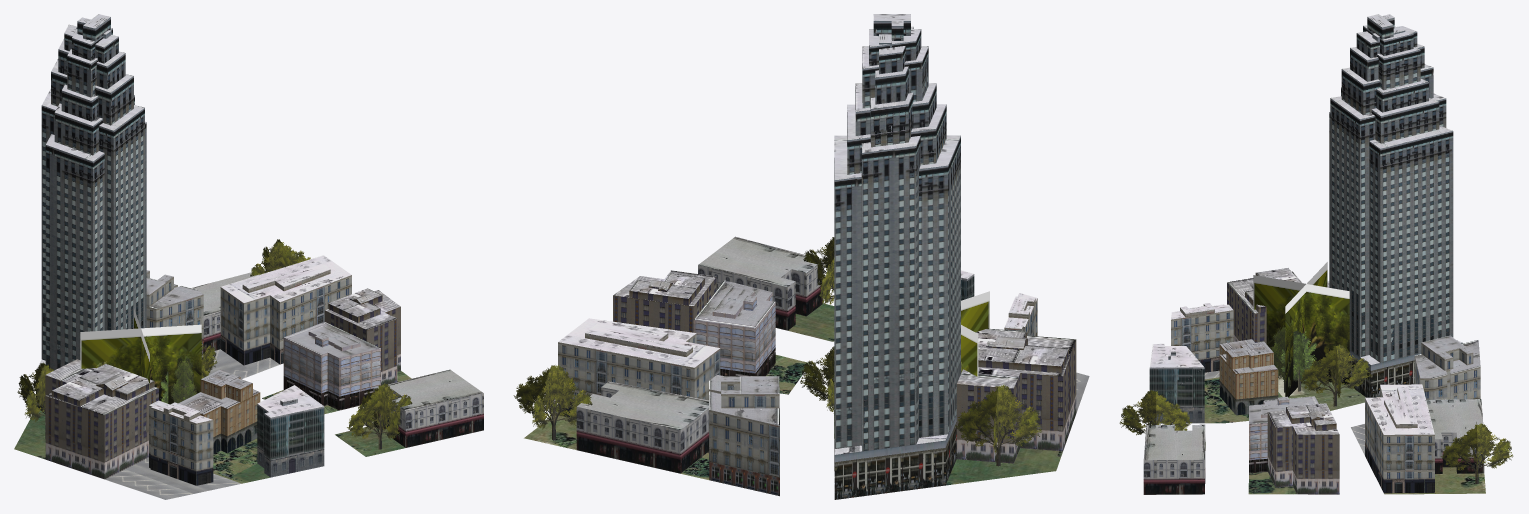
File: test_city_models_0.fbx
The picture shows the model from 3 angles, left to right: view 1: azimuth 30°, elevation 25°; view 2: azimuth 150°, elevation 25°; view 3: azimuth 270°, elevation 25°; orthographic projection. The views are drawn at different scales.
Parts seen in each view (by area): view 1: Facade_Textures.UpperFloors_156, Facade_Textures.UpperFloors_153, Plant_Loader.PlantFinal._7, Facade_Textures.UpperFloors_152, Facade_Textures.UpperFloors_55, Facade_Textures.UpperFloors_157, Facade_Textures.UpperFloors_108, Facade_Textures.UpperFloors_4, Facade_Textures.UpperFloors_37, Facade_Textures.UpperFloors_56, Plant_Loader.PlantFinal._3, Roof_Textures.FlatPlane_29 (+42 smaller); view 2: Facade_Textures.UpperFloors_151, Facade_Textures.UpperFloors_155, Facade_Textures.UpperFloors, Facade_Textures.GroundFloors_50, Facade_Textures.UpperFloors_20, Roof_Textures.FlatPlane_28, Plant_Loader.PlantFinal._4, Facade_Textures.UpperFloors_156, Roof_Textures.FlatPlane_29, Plant_Loader.PlantFinal._2, Roof_Textures.FlatPlane_30, Facade_Textures.UpperFloors_122 (+38 smaller); view 3: Facade_Textures.UpperFloors_158, Plant_Loader.PlantFinal._7, Facade_Textures.UpperFloors_153, Facade_Textures.UpperFloors_157, Facade_Textures.UpperFloors_154, Facade_Textures.UpperFloors_5, Facade_Textures.UpperFloors_33, Plant_Loader.PlantFinal._5, Plant_Loader.PlantFinal._2, Roof_Textures.FlatPlane_29, Facade_Textures.UpperFloors_103, Facade_Textures.UpperFloors_82 (+36 smaller).
Part boxes in pixels (x1=…): Facade_Textures.UpperFloors_156: x1=45, y1=145, x2=92, y2=370; Facade_Textures.UpperFloors_153: x1=113, y1=108, x2=144, y2=329; Plant_Loader.PlantFinal._7: x1=80, y1=308, x2=201, y2=404; Facade_Textures.UpperFloors_152: x1=41, y1=105, x2=113, y2=360; Facade_Textures.UpperFloors_55: x1=45, y1=396, x2=104, y2=462; Facade_Textures.UpperFloors_157: x1=93, y1=122, x2=146, y2=331; Facade_Textures.UpperFloors_108: x1=270, y1=406, x2=324, y2=459; Facade_Textures.UpperFloors_4: x1=280, y1=275, x2=351, y2=349; Facade_Textures.UpperFloors_37: x1=150, y1=407, x2=196, y2=470; Facade_Textures.UpperFloors_56: x1=104, y1=388, x2=158, y2=461; Plant_Loader.PlantFinal._3: x1=347, y1=383, x2=412, y2=449; Roof_Textures.FlatPlane_29: x1=373, y1=369, x2=483, y2=410; Facade_Textures.UpperFloors_151: x1=862, y1=146, x2=916, y2=451; Facade_Textures.UpperFloors_155: x1=834, y1=165, x2=948, y2=448; Facade_Textures.UpperFloors: x1=558, y1=342, x2=694, y2=399; Facade_Textures.GroundFloors_50: x1=834, y1=448, x2=945, y2=499; Facade_Textures.UpperFloors_20: x1=709, y1=410, x2=779, y2=477; Roof_Textures.FlatPlane_28: x1=577, y1=381, x2=708, y2=429; Plant_Loader.PlantFinal._4: x1=955, y1=384, x2=1042, y2=466; Facade_Textures.UpperFloors_156: x1=948, y1=136, x2=960, y2=433; Roof_Textures.FlatPlane_29: x1=698, y1=236, x2=821, y2=287; Plant_Loader.PlantFinal._2: x1=513, y1=365, x2=592, y2=440; Roof_Textures.FlatPlane_30: x1=558, y1=318, x2=719, y2=367; Facade_Textures.UpperFloors_122: x1=576, y1=407, x2=680, y2=452; Facade_Textures.UpperFloors_158: x1=1380, y1=131, x2=1453, y2=362; Plant_Loader.PlantFinal._7: x1=1253, y1=262, x2=1349, y2=397; Facade_Textures.UpperFloors_153: x1=1330, y1=98, x2=1359, y2=356; Facade_Textures.UpperFloors_157: x1=1329, y1=112, x2=1380, y2=362; Facade_Textures.UpperFloors_154: x1=1360, y1=98, x2=1446, y2=357; Facade_Textures.UpperFloors_5: x1=1383, y1=434, x2=1434, y2=479; Facade_Textures.UpperFloors_33: x1=1171, y1=310, x2=1233, y2=359; Plant_Loader.PlantFinal._5: x1=1300, y1=344, x2=1371, y2=406; Plant_Loader.PlantFinal._2: x1=1440, y1=422, x2=1513, y2=483; Roof_Textures.FlatPlane_29: x1=1143, y1=424, x2=1205, y2=460; Facade_Textures.UpperFloors_103: x1=1149, y1=367, x2=1204, y2=407; Facade_Textures.UpperFloors_82: x1=1297, y1=434, x2=1339, y2=478.
Size of the model in its own units: 123 by 117 by 118.
